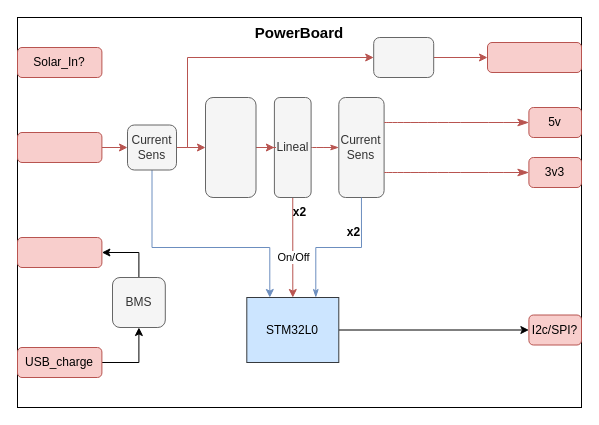
The diagram is 599 pixels wide and 425 high, and some of its shapes have lost their labels. The centre of each missing label's shape, as x and y in pixels:
1s/2s: point 59,147
Buck-boost: point 230,147
LIPO Charge: point 59,252
LiPoBypass: point 534,57
SW-Switch: point 403,57
